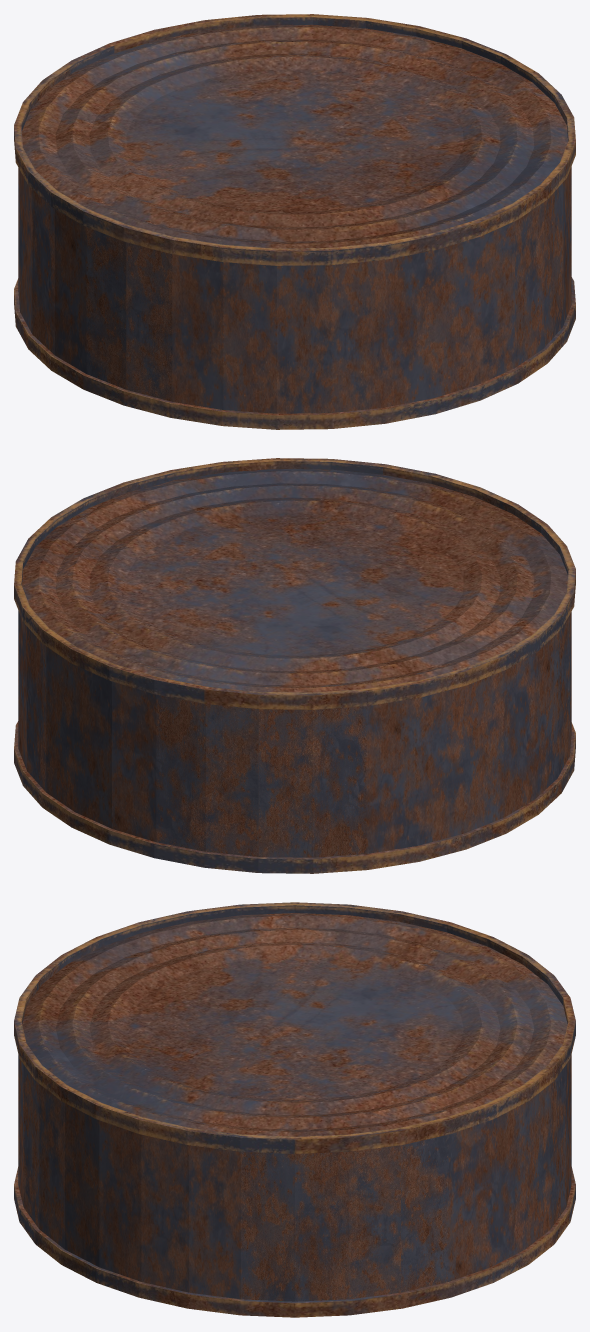
Rendered from RustyCan.fbx.
3 views of the same model, one above another, from view 1: azimuth 30°, elevation 25°; view 2: azimuth 150°, elevation 25°; view 3: azimuth 270°, elevation 25° (orthographic).
Visible parts, largest first — view 1: Cylinder.001, Cylinder; view 2: Cylinder.001, Cylinder; view 3: Cylinder.001, Cylinder.
Boxes of the visible parts, <box> form: Cylinder.001: <box>14,14,575,429</box>; Cylinder: <box>18,166,571,413</box>; Cylinder.001: <box>14,458,575,873</box>; Cylinder: <box>18,610,571,857</box>; Cylinder.001: <box>14,902,575,1317</box>; Cylinder: <box>18,1055,571,1301</box>.
Bounding box in the file's own units: 200 × 69.84 × 200.
